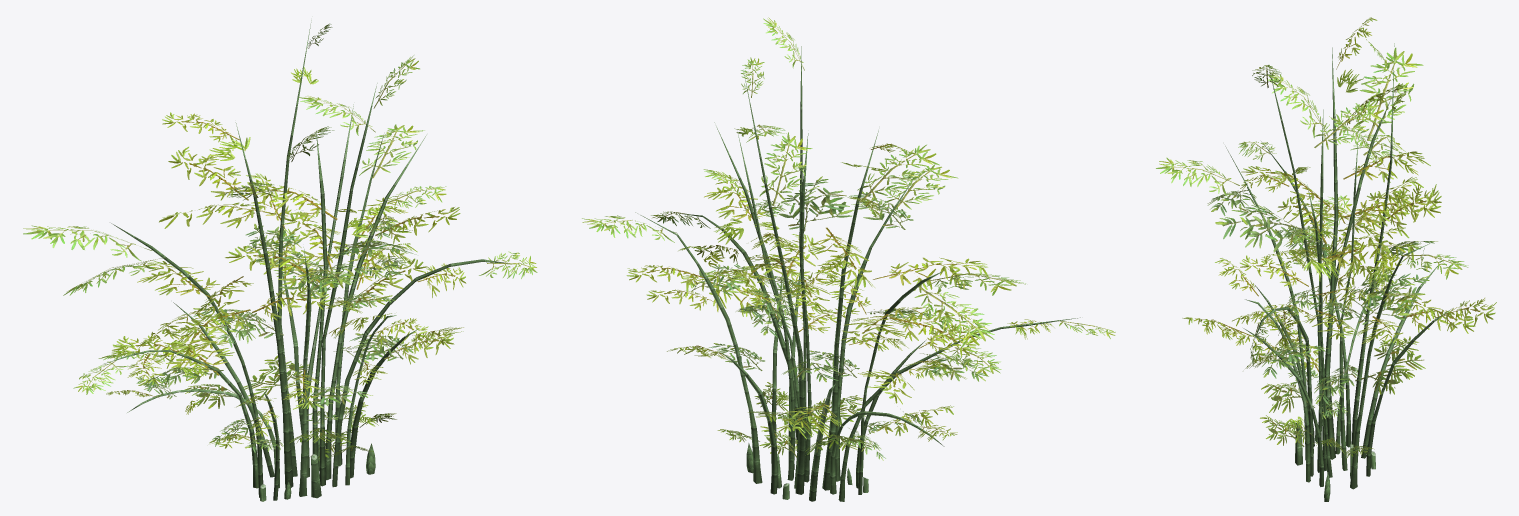
Rendered from ZhuZi.FBX.
The picture shows the model from 3 angles, left to right: view 1: azimuth 30°, elevation 25°; view 2: azimuth 150°, elevation 25°; view 3: azimuth 270°, elevation 25°; orthographic projection. The views are drawn at different scales.
Visible parts, largest first — view 1: Object001; view 2: Object001; view 3: Object001.
Part boxes in pixels (x1,y1,x2,y2): Object001: (23, 20, 537, 501); Object001: (582, 17, 1115, 501); Object001: (1156, 17, 1496, 501).
Size of the model in its own units: 1001 by 881 by 630.
